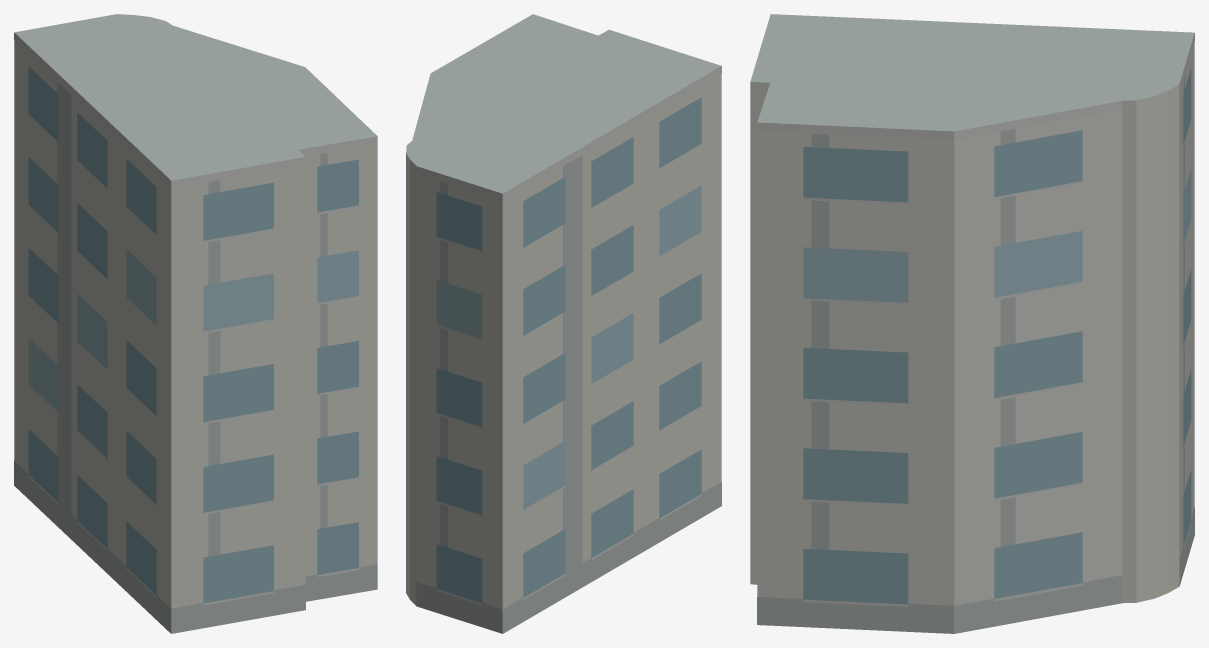
File: survey-upis-33029700.glb
3 renders of one model, left to right at view 1: azimuth 30°, elevation 25°; view 2: azimuth 150°, elevation 25°; view 3: azimuth 270°, elevation 25°, orthographic. The views are drawn at different scales.
Parts seen in each view (by area): view 1: survey-upis-33029700.tmp; view 2: survey-upis-33029700.tmp; view 3: survey-upis-33029700.tmp.
Part boxes in pixels (<box>): survey-upis-33029700.tmp: <box>14,14,377,633</box>; survey-upis-33029700.tmp: <box>406,14,721,633</box>; survey-upis-33029700.tmp: <box>750,14,1194,633</box>.
Bounding box in the file's own units: 6.87 × 13.7 × 10.99.
